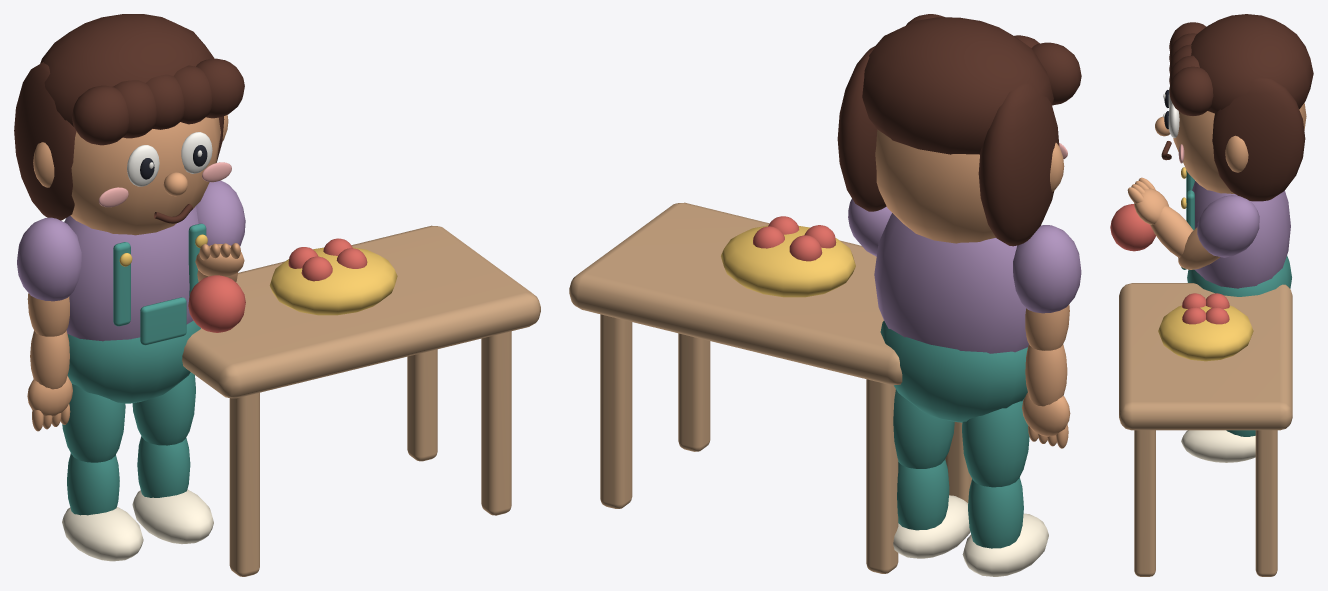
File: mommy-eat.glb
3 renders of one model, left to right at view 1: azimuth 30°, elevation 25°; view 2: azimuth 150°, elevation 25°; view 3: azimuth 270°, elevation 25°, orthographic. The views are drawn at different scales.
Visible parts, largest first — view 1: table top, clay head, hair cap, soft shirt, overalls, bob hair, table leg, table leg.002, food bowl, shirt sleeve, trouser leg, table leg.003 (+22 smaller); view 2: table top, hair cap, soft shirt, bob hair, clay head, overalls, table leg.003, food bowl, table leg.001, shirt sleeve, trouser leg, bob hair.001 (+13 smaller); view 3: table top, bob hair.001, hair cap, soft shirt, food bowl, table leg.003, table leg.002, shirt sleeve.001, clay head, little shoe.001, fringe.004, little apple (+14 smaller).
Part boxes in pixels (x1,y1,x2,y2): table top: (182, 225, 540, 398); clay head: (70, 117, 220, 235); hair cap: (40, 14, 214, 126); soft shirt: (64, 206, 198, 341); overalls: (67, 321, 200, 403); bob hair: (14, 62, 76, 220); table leg: (229, 392, 259, 576); table leg.002: (481, 331, 511, 515); food bowl: (269, 247, 397, 315); shirt sleeve: (17, 217, 81, 301); trouser leg: (62, 384, 125, 462); table leg.003: (407, 349, 437, 461); table top: (569, 202, 902, 385); hair cap: (862, 17, 1053, 154); soft shirt: (874, 213, 1028, 353); bob hair: (978, 83, 1059, 246); clay head: (875, 129, 995, 243); overalls: (880, 321, 1027, 422); table leg.003: (600, 314, 632, 508); food bowl: (721, 225, 855, 297); table leg.001: (866, 379, 898, 573); shirt sleeve: (1013, 225, 1081, 313); trouser leg: (962, 399, 1029, 487); bob hair.001: (837, 46, 886, 211); table top: (1119, 283, 1292, 430); bob hair.001: (1212, 78, 1305, 201); hair cap: (1191, 14, 1313, 113); soft shirt: (1192, 181, 1290, 288); food bowl: (1158, 305, 1253, 361); table leg.003: (1255, 430, 1277, 576); table leg.002: (1134, 430, 1155, 576); shirt sleeve.001: (1197, 195, 1259, 257); clay head: (1172, 103, 1306, 193); little shoe.001: (1181, 430, 1255, 462); fringe.004: (1169, 66, 1213, 115); little apple: (1110, 204, 1155, 251).
Bounding box in the file's own units: 1.98 × 2.17 × 0.9365.
